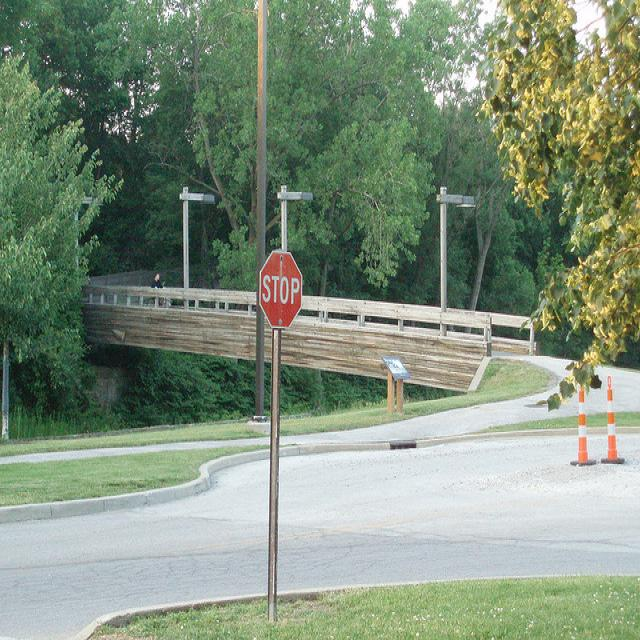motor: (164, 297, 172, 309)
